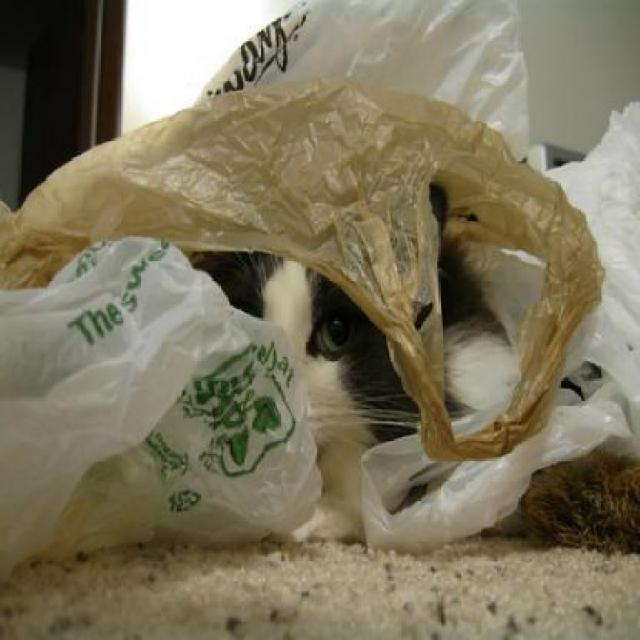plastic bag: (0, 0, 637, 562)
